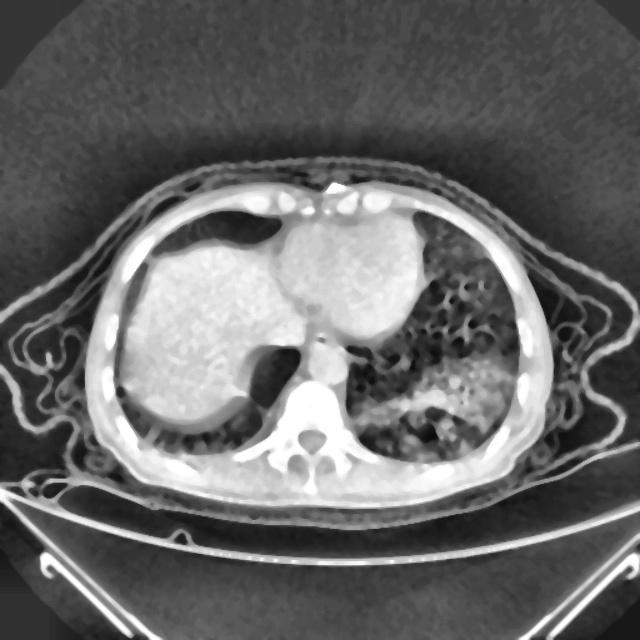covid: (88, 180, 554, 507)
